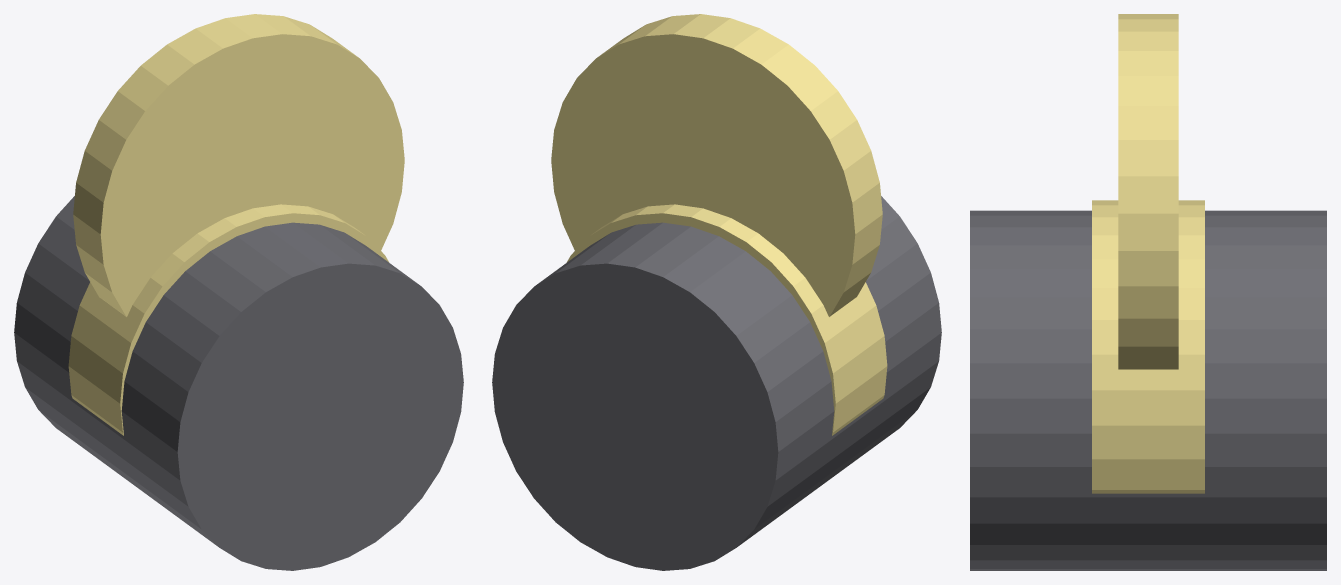
File: ice-cream.glb
3 renders of one model, left to right at view 1: azimuth 30°, elevation 25°; view 2: azimuth 150°, elevation 25°; view 3: azimuth 270°, elevation 25°, orthographic. The views are drawn at different scales.
Parts seen in each view (by area): view 1: icecream_tub, icecream_lid, icecream_band; view 2: icecream_tub, icecream_lid, icecream_band; view 3: icecream_tub, icecream_band, icecream_lid.
Part boxes in pixels (x1,y1,x2,y2): icecream_tub: (14, 196, 463, 570); icecream_lid: (73, 14, 404, 316); icecream_band: (68, 204, 389, 435); icecream_tub: (492, 196, 941, 570); icecream_lid: (551, 14, 882, 316); icecream_band: (566, 204, 887, 435); icecream_tub: (970, 210, 1326, 570); icecream_band: (1092, 200, 1204, 493); icecream_lid: (1118, 14, 1178, 369).
Bounding box in the file's own units: 0.102 × 0.1535 × 0.095.
